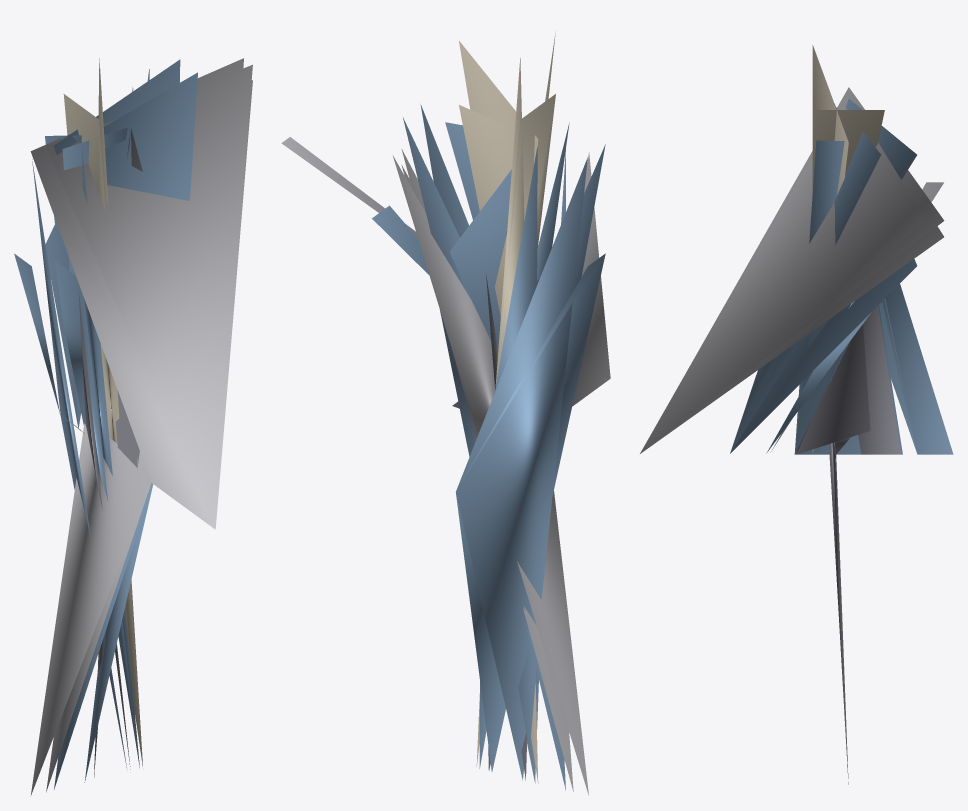
Rendered from player_sword.glb.
The picture shows the model from 3 angles, left to right: view 1: azimuth 30°, elevation 25°; view 2: azimuth 150°, elevation 25°; view 3: azimuth 270°, elevation 25°; orthographic projection.
Parts seen in each view (by area): view 1: player_sword; view 2: player_sword; view 3: player_sword.
Part boxes in pixels (left/top/right/bottom): player_sword: left=14, top=58, right=252, bottom=795; player_sword: left=281, top=33, right=610, bottom=795; player_sword: left=640, top=45, right=953, bottom=784.
Bounding box in the file's own units: 0.87 × 2.3 × 0.87.
